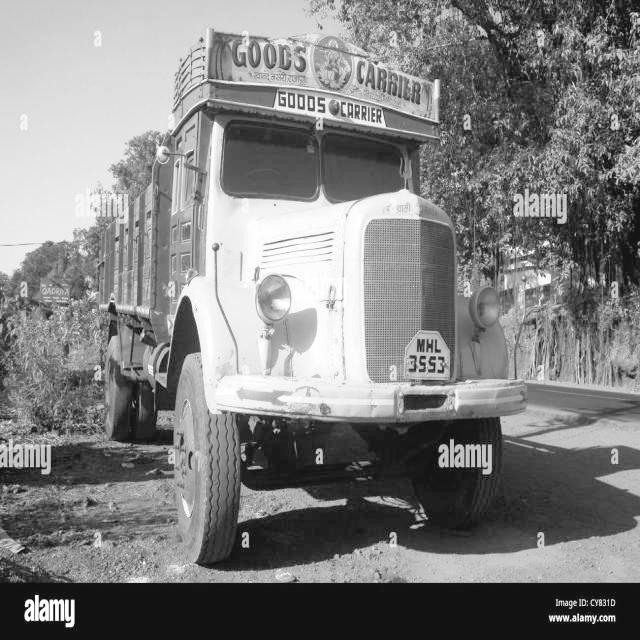HCV: (77, 18, 547, 574)
